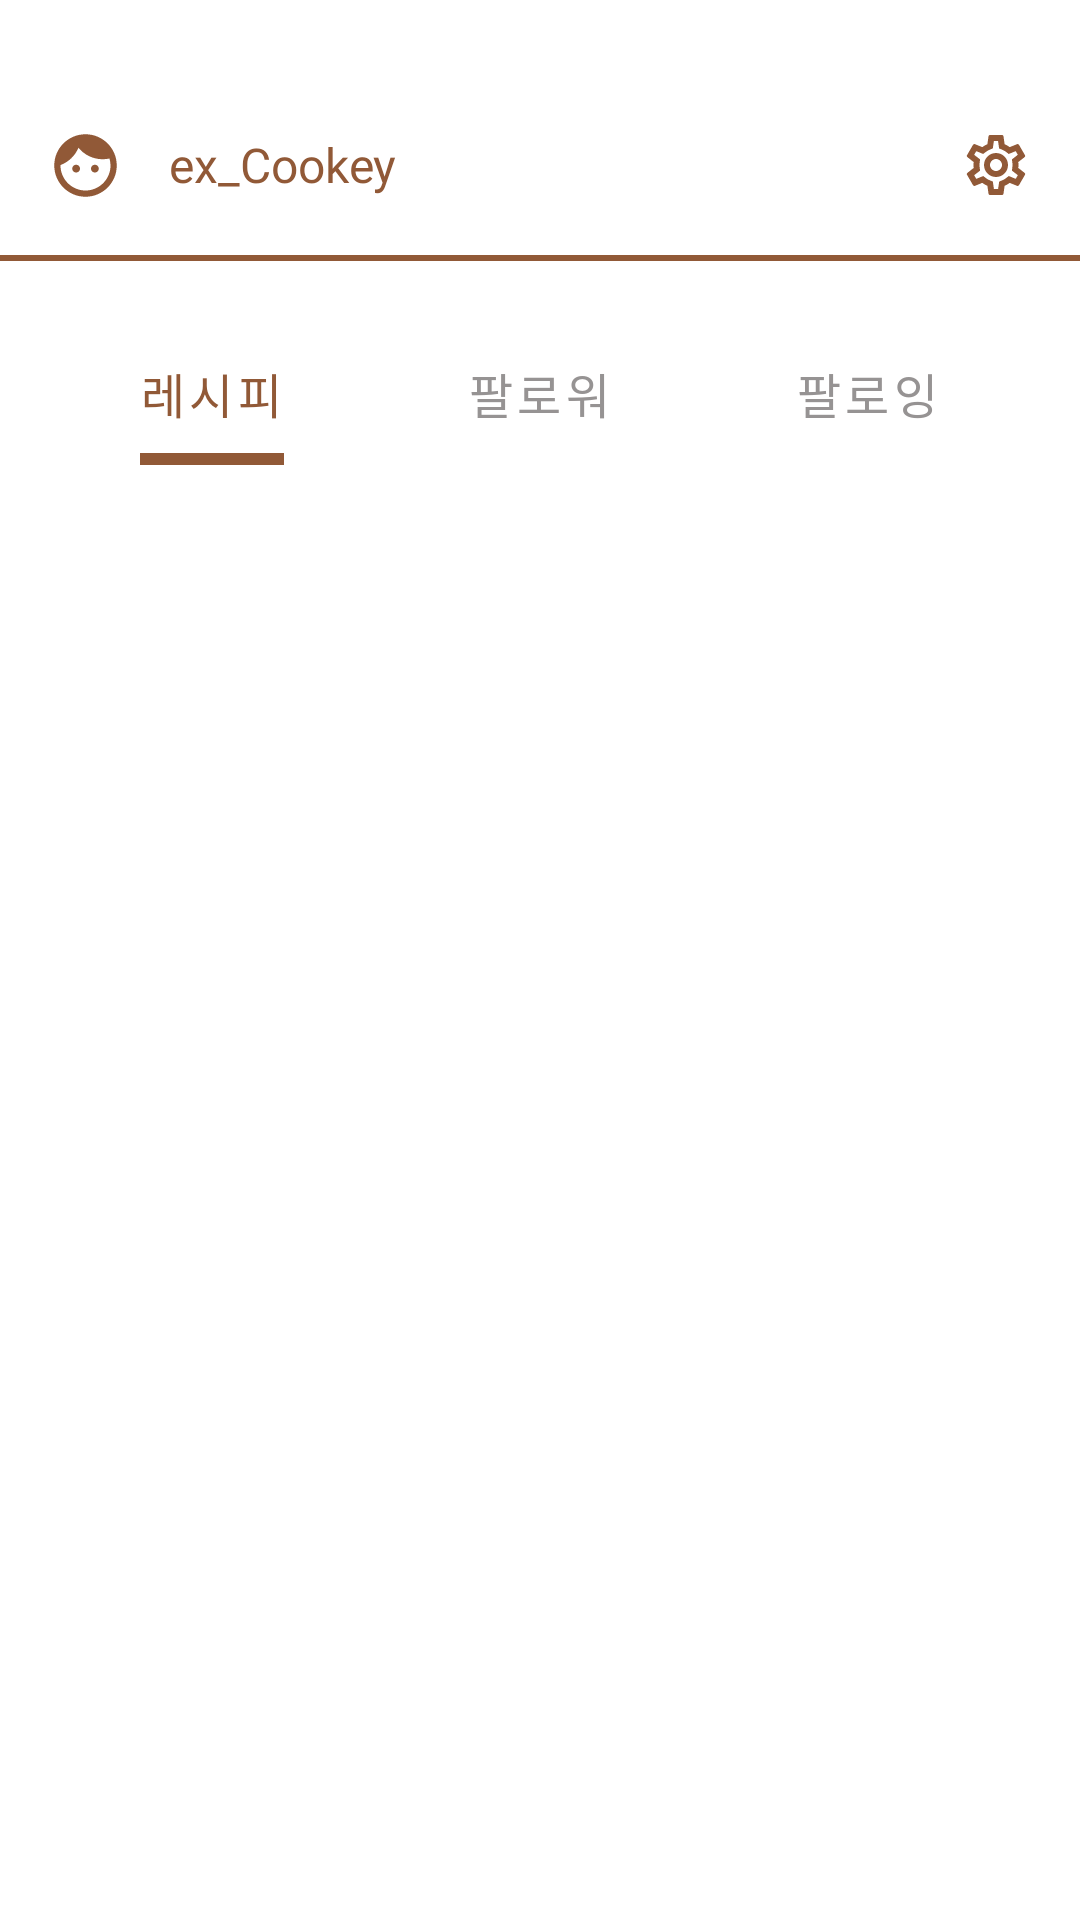

Locate icon controls on the screen. Image size 1080w x 1920h, boxes as (x1, y1, x2, y2).
face: (54, 134, 117, 197)
settings: (966, 135, 1025, 195)
